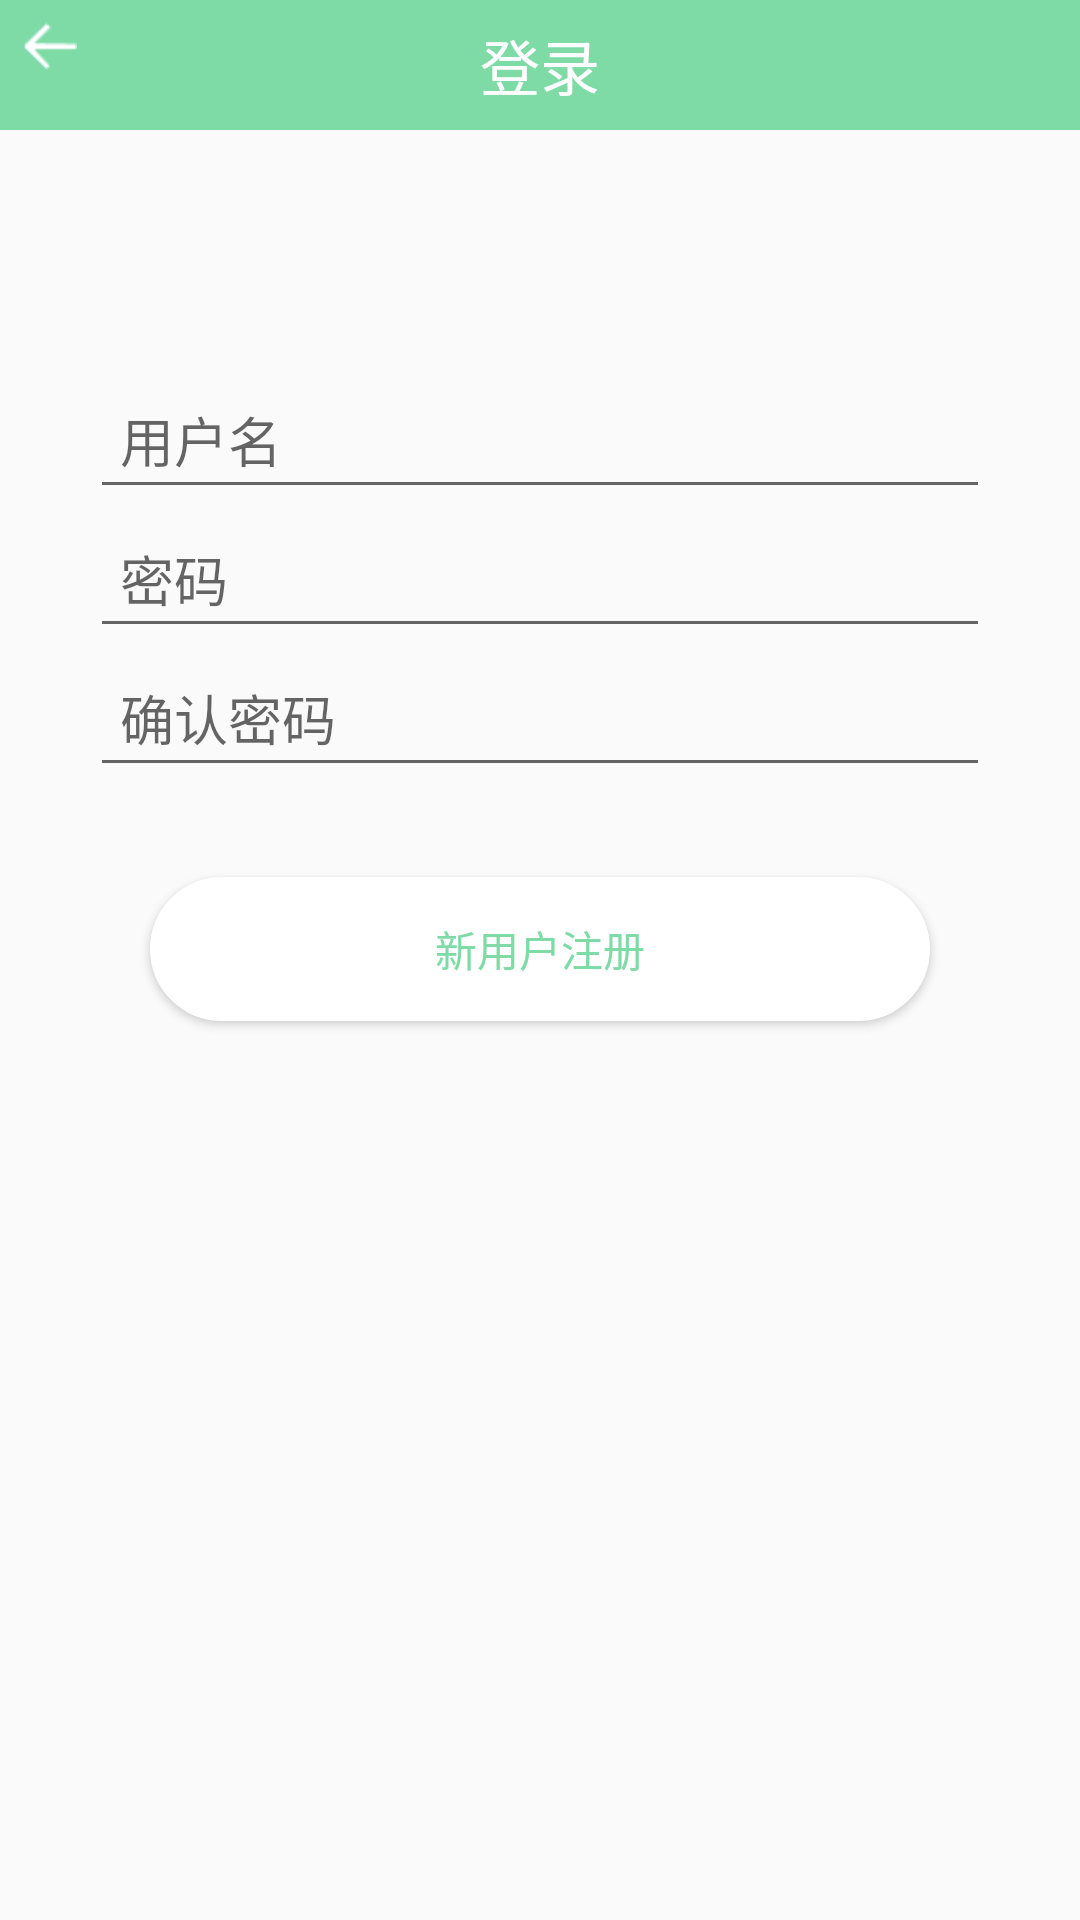

Point at icon controls on the screen. Image size 1080x1920, points as (x=x, y=y).
back: (x=50, y=46)
